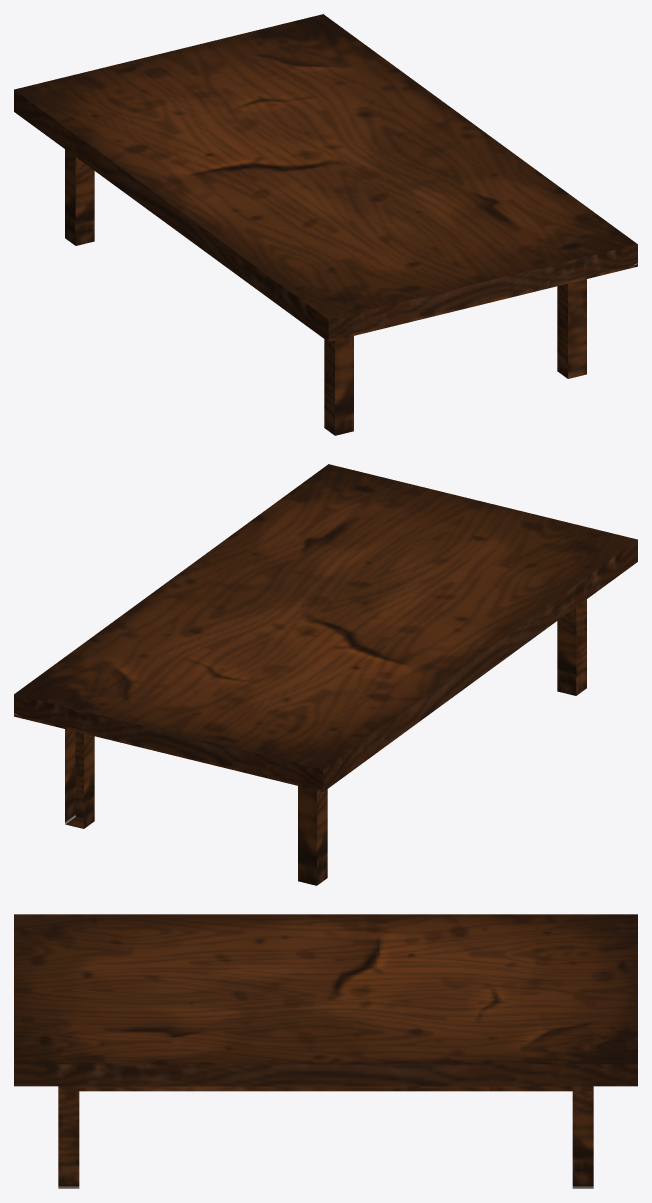
The model's file is Table.fbx.
3 views of the same model, one above another, from view 1: azimuth 30°, elevation 25°; view 2: azimuth 150°, elevation 25°; view 3: azimuth 270°, elevation 25° (orthographic).
Parts seen in each view (by area): view 1: Table; view 2: Table; view 3: Table.
Boxes of the visible parts, x1,y1,x2,y2 form: Table: [14, 14, 637, 435]; Table: [14, 464, 637, 885]; Table: [14, 914, 637, 1188].
Bounding box in the file's own units: 132 × 56.95 × 233.
